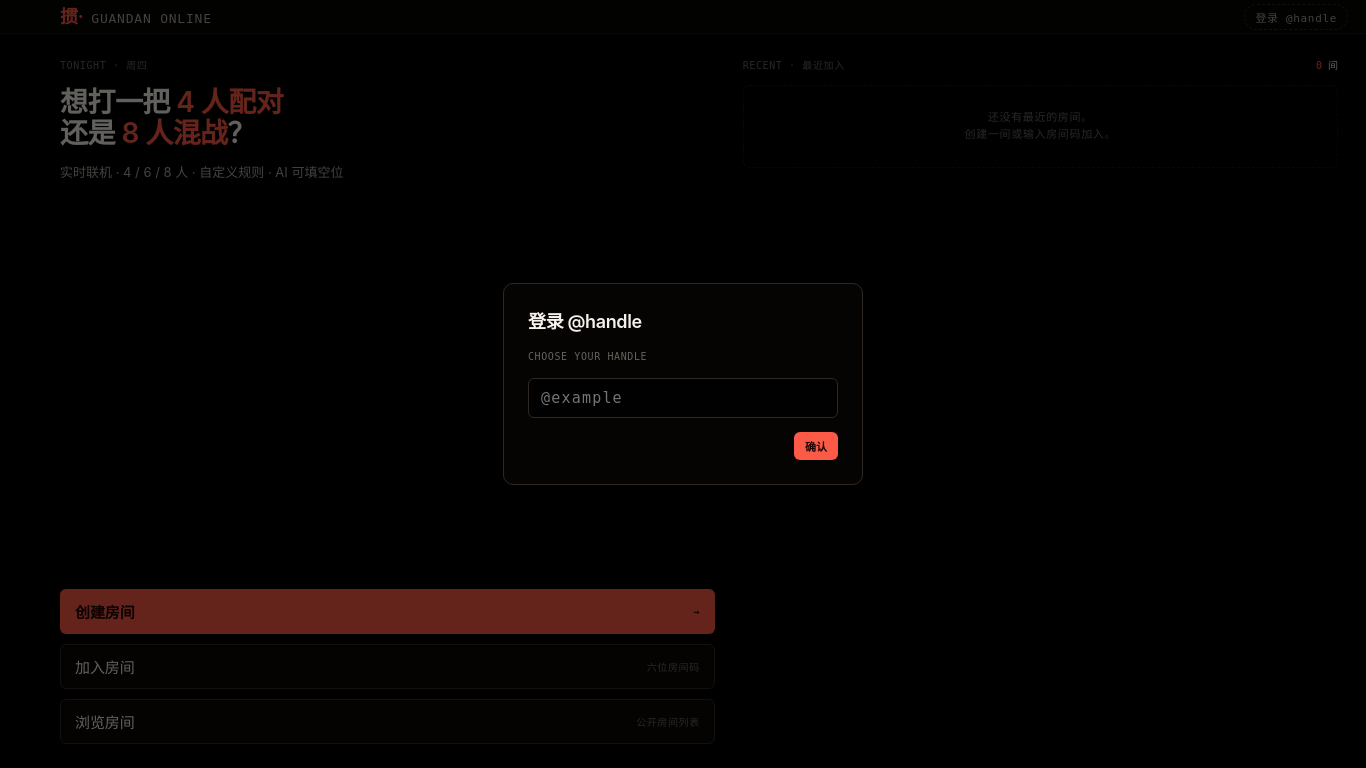
Test: Landing › rejects invalid handle with error message
The image size is (1366, 768).
Type "@x" into the field named "handle" at (683, 398), box [528,378,838,418]
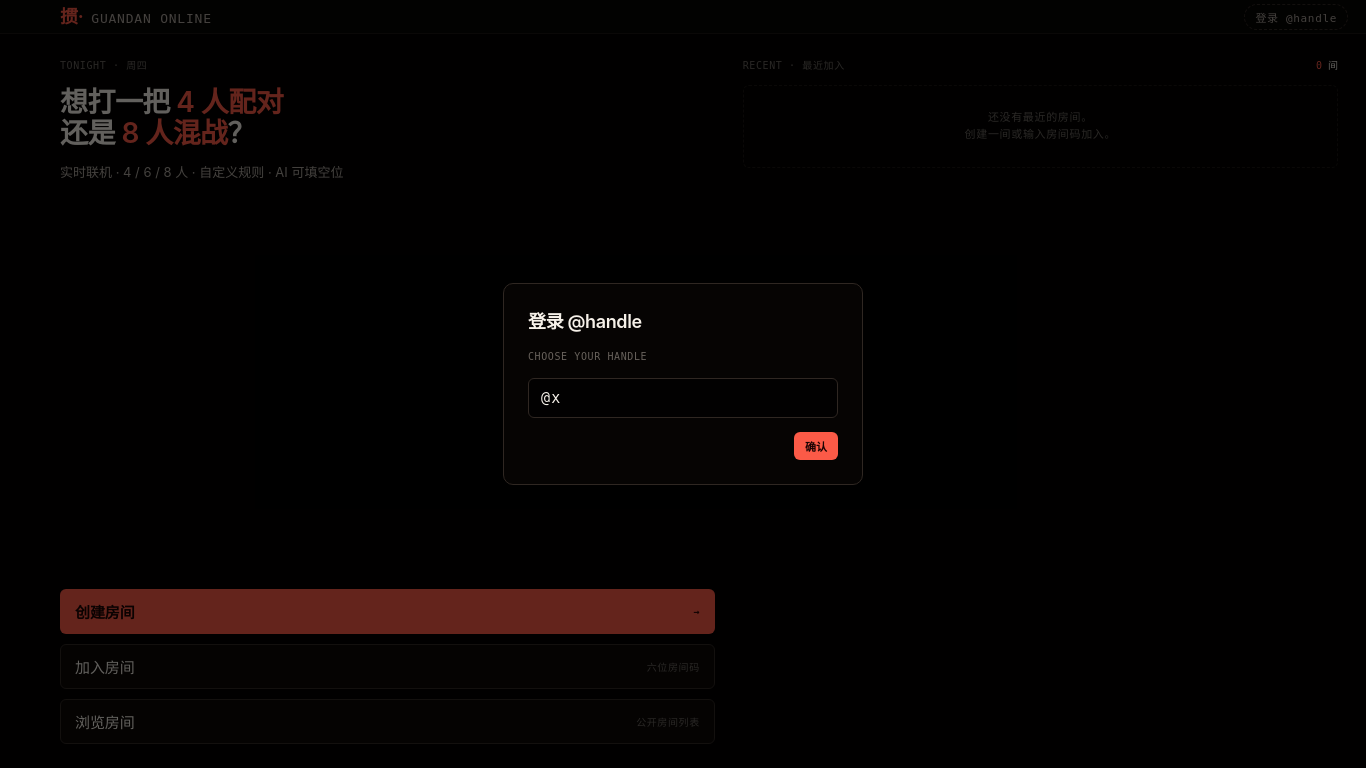
Click the button "确认" at (816, 446), box [794,432,838,460]
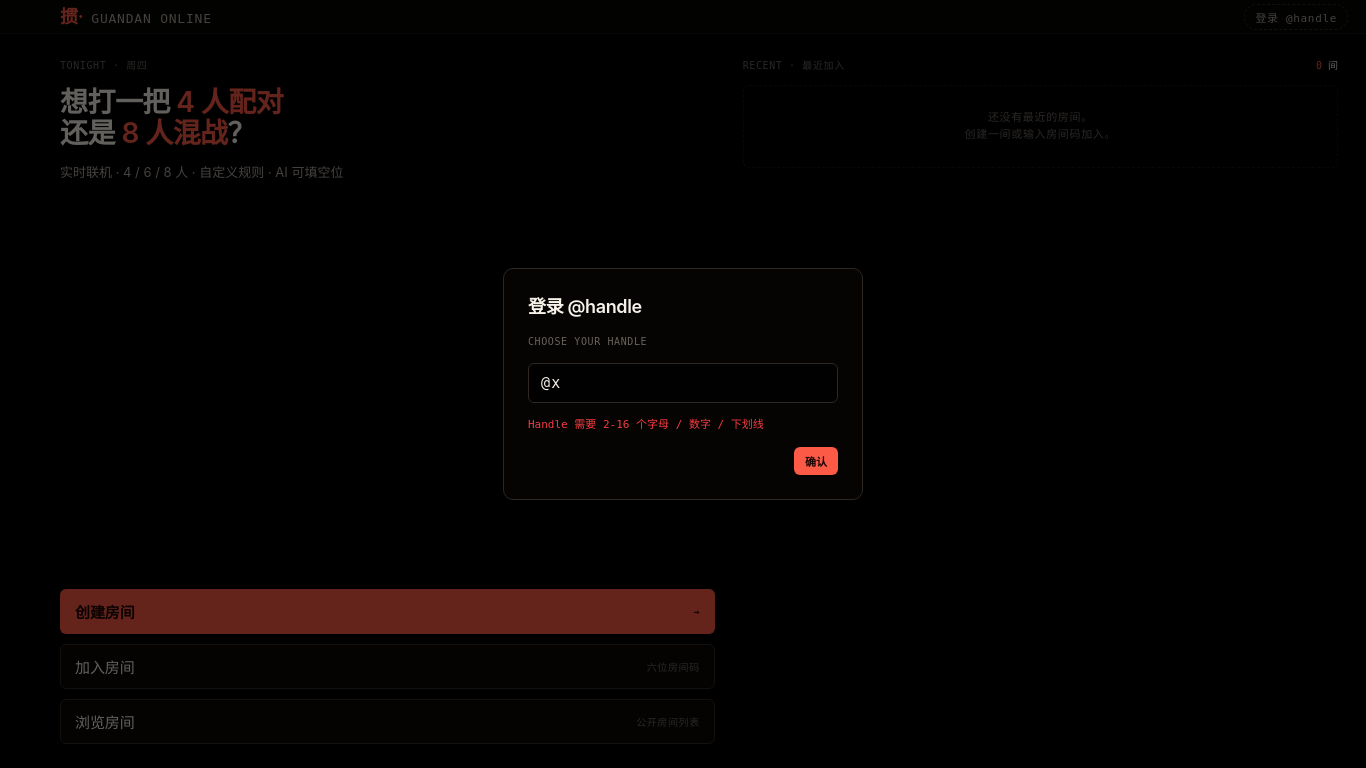
Expected: the text "Handle 需要 2-16 个字母 / 数字 / 下划线" is shown, [528,418,764,431]
